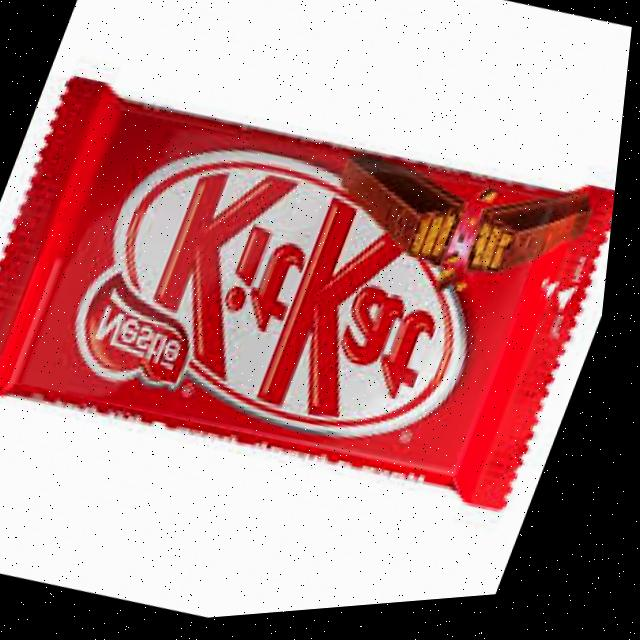kitkat: (0, 41, 633, 558)
